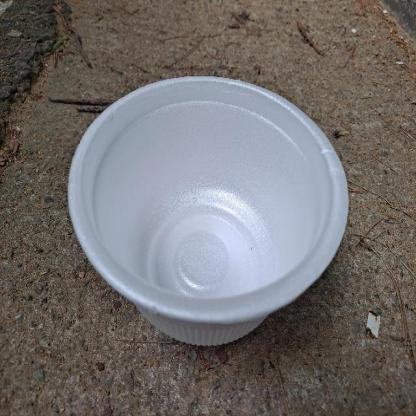Glass Cup: (67, 75, 350, 346), (68, 76, 349, 346)
